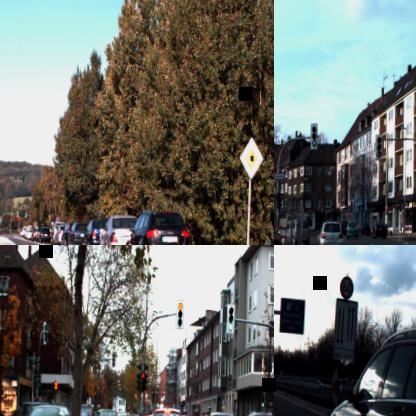priority road: (239, 137, 264, 179)
speed limit 60: (339, 275, 354, 300)
